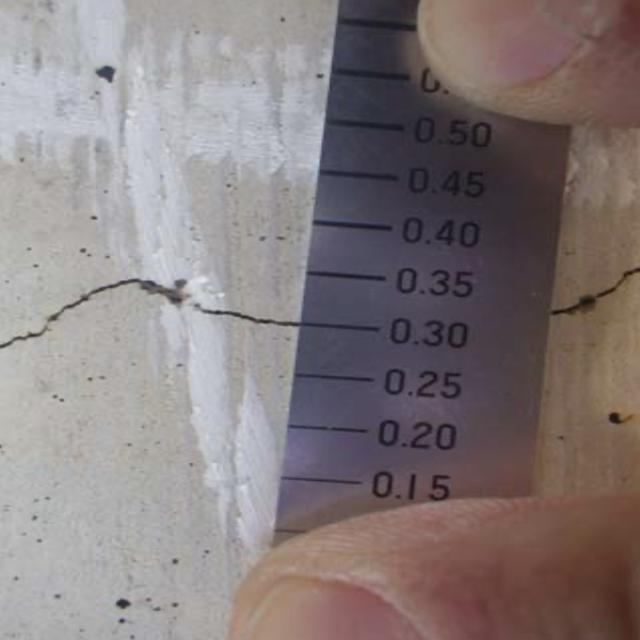crack: (4, 270, 300, 367), (558, 258, 640, 338)
